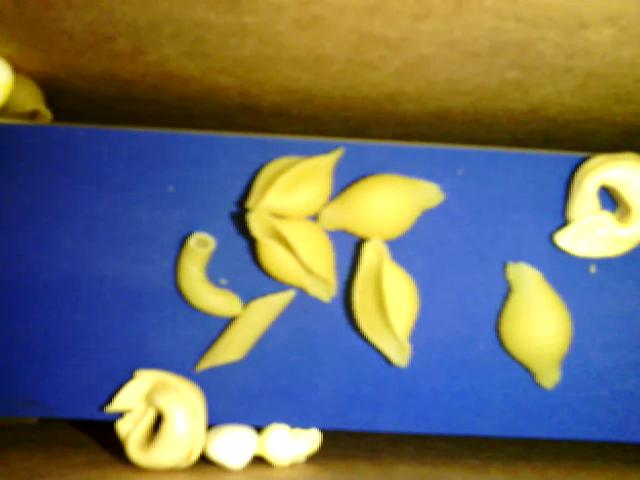elbow: (173, 227, 245, 321)
penne: (197, 287, 301, 374)
shell: (342, 237, 418, 370), (495, 261, 573, 390), (314, 172, 446, 243), (248, 212, 337, 304), (243, 144, 350, 218), (3, 70, 57, 127)
tortellini: (98, 364, 208, 470), (540, 148, 638, 260)
